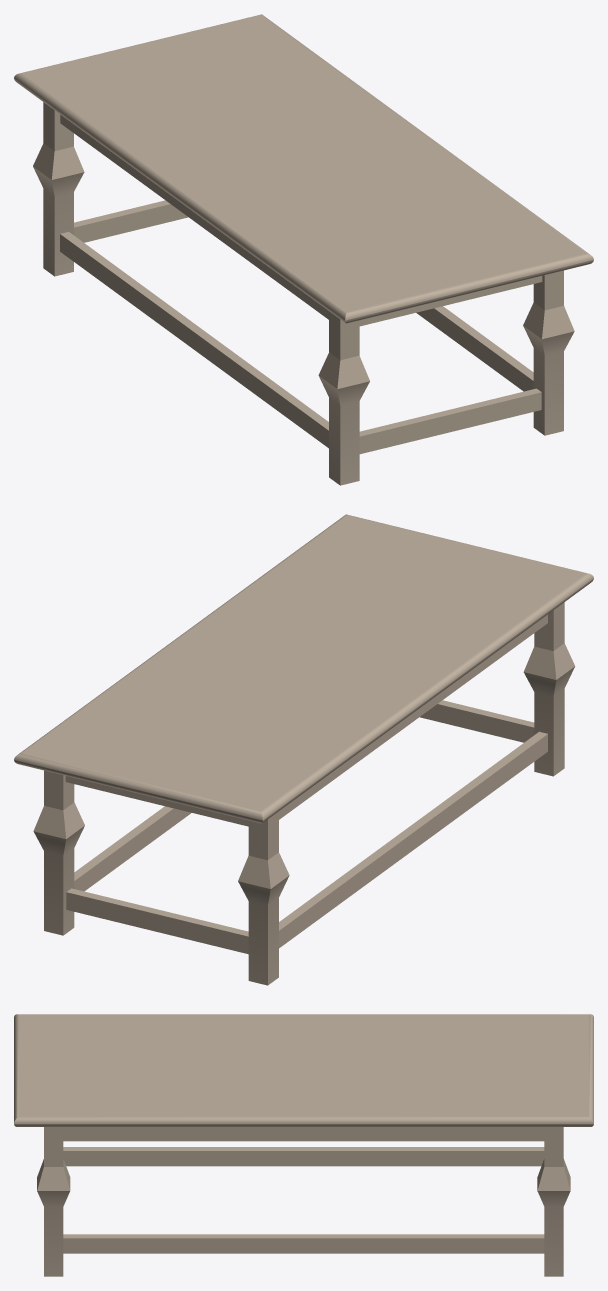
File: GrandeTable_59.fbx
3 renders of one model, top to bottom at view 1: azimuth 30°, elevation 25°; view 2: azimuth 150°, elevation 25°; view 3: azimuth 270°, elevation 25°, orthographic. The views are drawn at different scales.
Parts seen in each view (by area): view 1: pCube97, pCube99, polySurface27, polySurface24, polySurface26, pCube101, pCube98, pCube100; view 2: pCube97, pCube99, polySurface26, polySurface25, polySurface27, pCube100, pCube98, pCube101; view 3: pCube97, pCube98, pCube99, polySurface25, polySurface24.
Part boxes in pixels (x1=…): pCube97: x1=14, y1=14, x2=593, y2=326; pCube99: x1=60, y1=232, x2=328, y2=448; polySurface27: x1=318, y1=311, x2=369, y2=485; polySurface24: x1=523, y1=270, x2=574, y2=435; polySurface26: x1=33, y1=102, x2=84, y2=276; pCube101: x1=359, y1=388, x2=541, y2=454; pCube98: x1=416, y1=306, x2=533, y2=391; pCube100: x1=74, y1=200, x2=188, y2=242; pCube97: x1=14, y1=514, x2=593, y2=826; pCube99: x1=279, y1=731, x2=547, y2=948; polySurface26: x1=238, y1=811, x2=289, y2=985; polySurface25: x1=33, y1=770, x2=84, y2=935; polySurface27: x1=523, y1=602, x2=575, y2=776; pCube100: x1=66, y1=888, x2=248, y2=954; pCube98: x1=74, y1=806, x2=191, y2=891; pCube101: x1=420, y1=700, x2=534, y2=742; pCube97: x1=14, y1=1014, x2=593, y2=1141; pCube98: x1=63, y1=1234, x2=544, y2=1253; pCube99: x1=63, y1=1147, x2=544, y2=1166; polySurface25: x1=537, y1=1127, x2=570, y2=1276; polySurface24: x1=37, y1=1127, x2=70, y2=1276.
Size of the model in its own units: 56.23 by 40.23 by 130.
